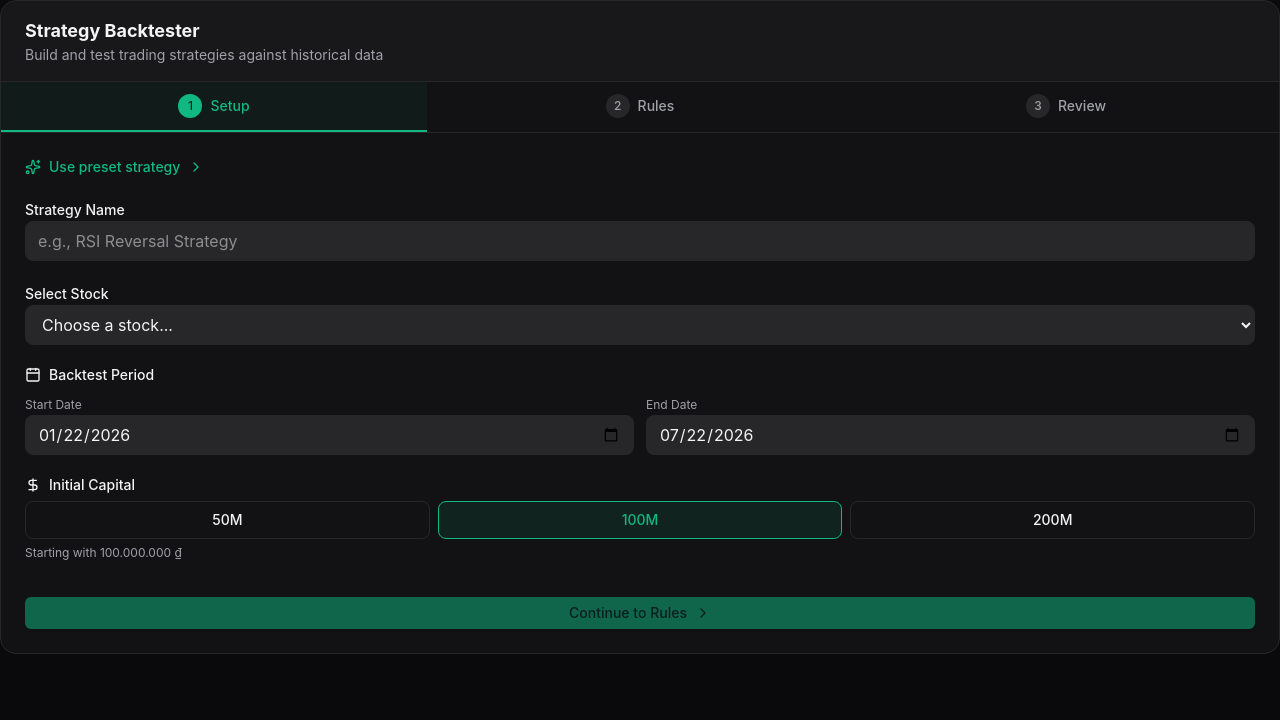
Test: BacktestForm › shows preset strategies when clicked
Click the button "Use preset strategy" at (115, 167), box [25,157,204,177]
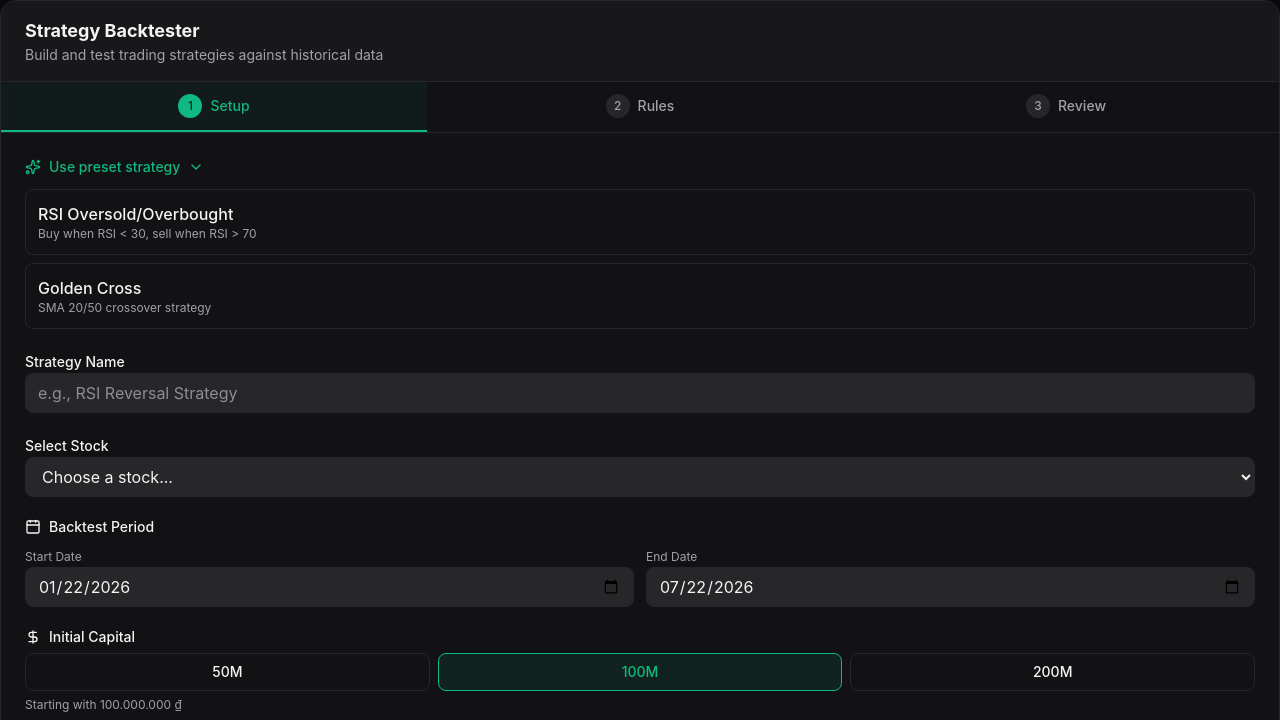
Check: the text "RSI Oversold/Overbought" is shown, box [38,202,233,226]
Check: the text "Golden Cross" is shown, box [38,276,141,300]
